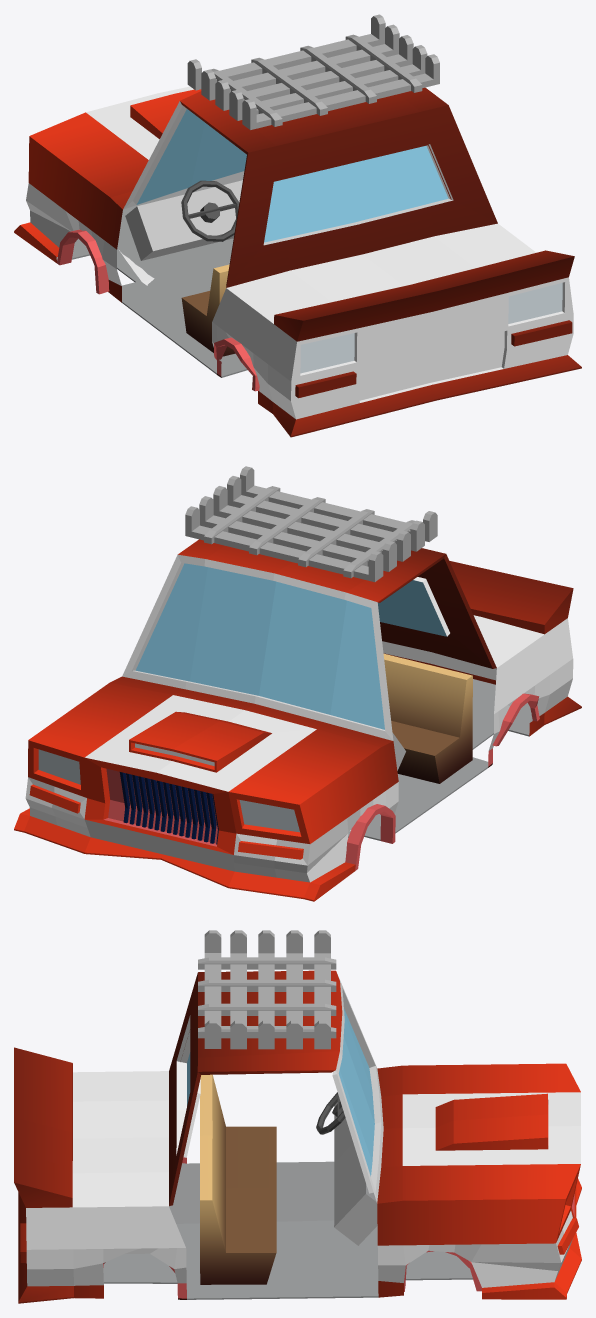
Rendered from veiculo teste.fbx.
The picture shows the model from 3 angles, top to bottom: view 1: azimuth 30°, elevation 25°; view 2: azimuth 150°, elevation 25°; view 3: azimuth 270°, elevation 25°; orthographic projection.
Parts seen in each view (by area): view 1: body, suporte de carga, backlight, volante, front_fender, rear_fender; view 2: body, suporte de carga, lattice.1, headlight, front_fender, rear_fender; view 3: body, suporte de carga, volante.
Boxes of the visible parts, left/top/right/bottom form: body: left=14, top=86, right=581, bottom=437; suporte de carga: left=187, top=14, right=439, bottom=129; backlight: left=300, top=282, right=562, bottom=373; volante: left=181, top=180, right=239, bottom=241; front_fender: left=57, top=229, right=109, bottom=294; rear_fender: left=214, top=337, right=259, bottom=391; body: left=14, top=539, right=581, bottom=901; suporte de carga: left=185, top=466, right=437, bottom=582; lattice.1: left=119, top=772, right=218, bottom=844; headlight: left=38, top=749, right=299, bottom=832; front_fender: left=345, top=804, right=395, bottom=870; rear_fender: left=492, top=693, right=539, bottom=746; body: left=14, top=970, right=581, bottom=1303; suporte de carga: left=198, top=930, right=336, bottom=1049; volante: left=316, top=1092, right=345, bottom=1134.
Size of the model in its own units: 146 by 118 by 237.
